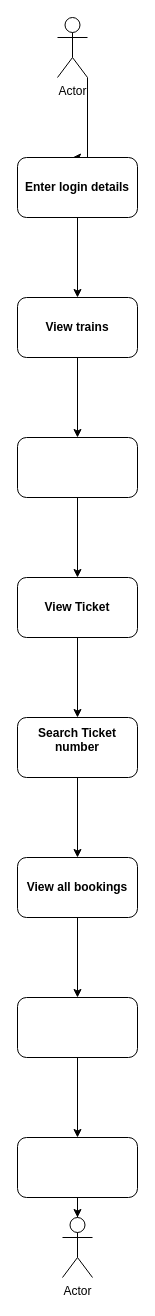
Some shapes in this 155 by 1316 pixel diagram are drawn without their labels. The centre of each missing label's shape, as x and y in pixels:
"Book Ticket" goes at (x=77, y=467).
"Cancel Ticket" goes at (x=77, y=1027).
"Log out" goes at (x=77, y=1167).
